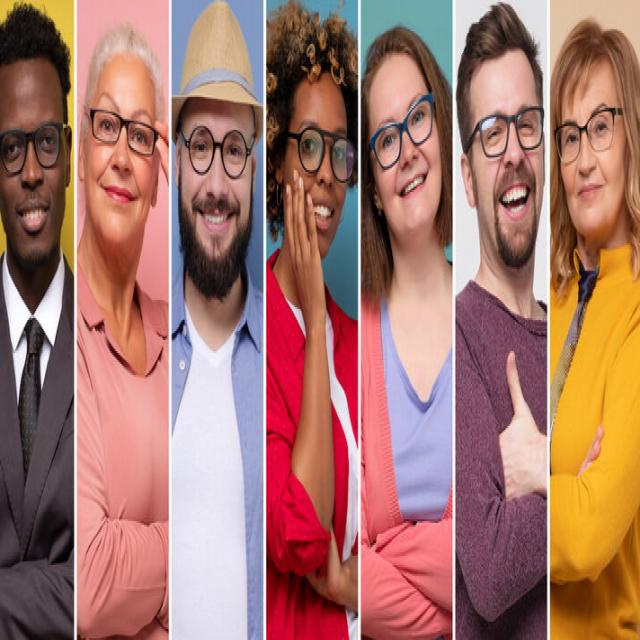Glasses: (368, 92, 436, 175), (180, 119, 254, 182), (553, 105, 622, 168), (465, 105, 545, 159), (0, 115, 67, 179), (290, 123, 358, 185), (87, 103, 158, 159)
